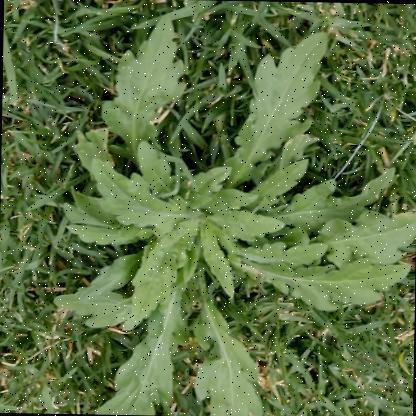Weeds: (51, 13, 415, 415)
